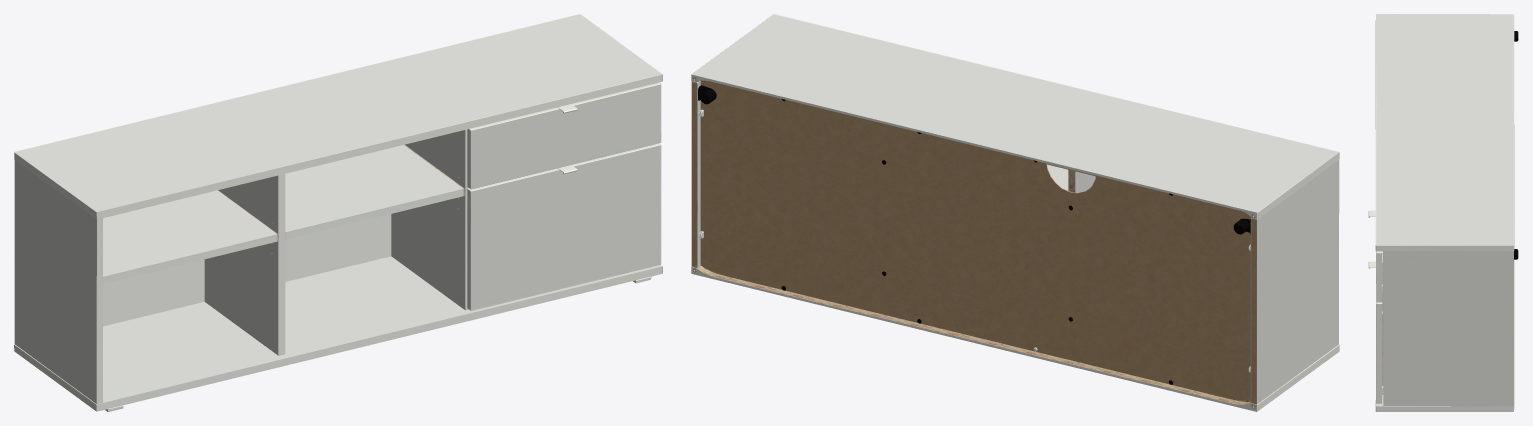
The picture shows the model from 3 angles, left to right: view 1: azimuth 30°, elevation 25°; view 2: azimuth 150°, elevation 25°; view 3: azimuth 270°, elevation 25°; orthographic projection. The views are drawn at different scales.
Visible parts, largest first — view 1: model; view 2: model; view 3: model.
Boxes of the visible parts, left/top/right/bottom form: model: left=14, top=14, right=662, bottom=411; model: left=691, top=14, right=1339, bottom=411; model: left=1368, top=14, right=1518, bottom=411.
Bounding box in the file's own units: 1.46 × 0.5003 × 0.4009.
1 material, 1 textured.
